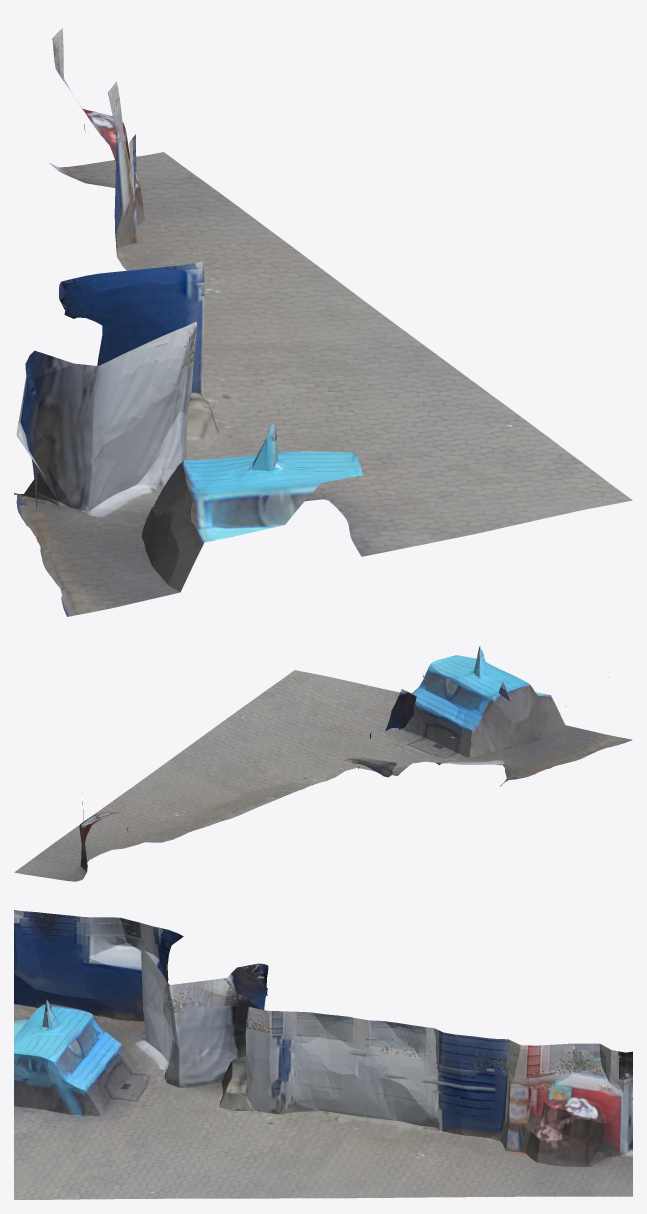
The picture shows the model from 3 angles, top to bottom: view 1: azimuth 30°, elevation 25°; view 2: azimuth 150°, elevation 25°; view 3: azimuth 270°, elevation 25°; orthographic projection. The views are drawn at different scales.
Size of the model in its own units: 5.82 by 1.67 by 8.36.
Materials: 2 (2 with a texture image).
